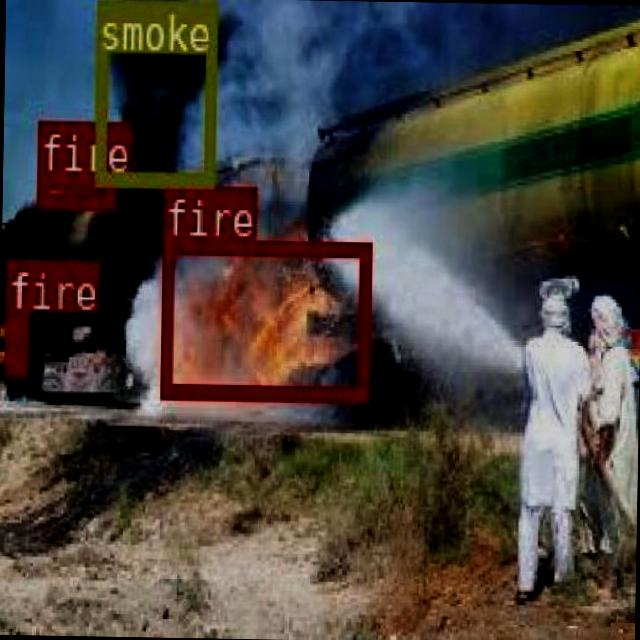fire: (158, 237, 368, 399), (34, 170, 113, 204), (1, 310, 27, 370)
smoke: (93, 0, 215, 184)
